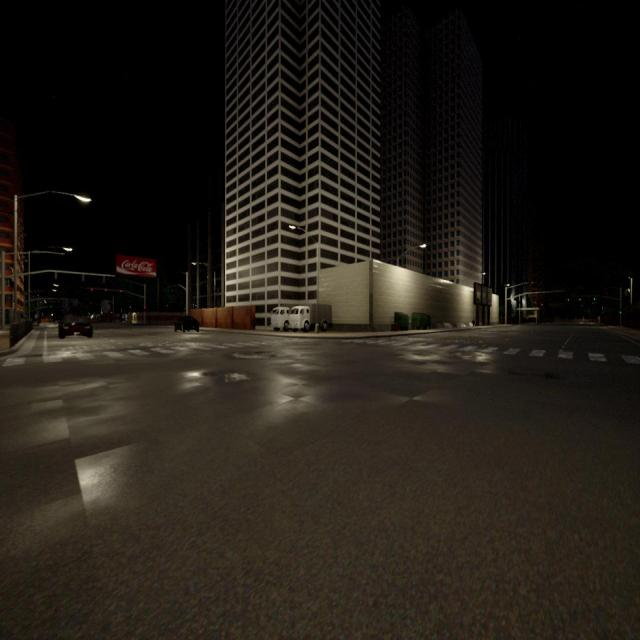Vehicle: (288, 304, 332, 332), (58, 313, 93, 339), (271, 306, 292, 332), (174, 314, 200, 332)
traffic_light: (619, 309, 622, 315), (104, 288, 107, 294), (103, 275, 105, 283), (82, 274, 84, 281), (55, 272, 57, 279), (568, 296, 570, 302), (91, 288, 93, 294), (120, 290, 122, 295), (144, 306, 146, 311), (579, 296, 581, 301), (594, 296, 596, 301)
